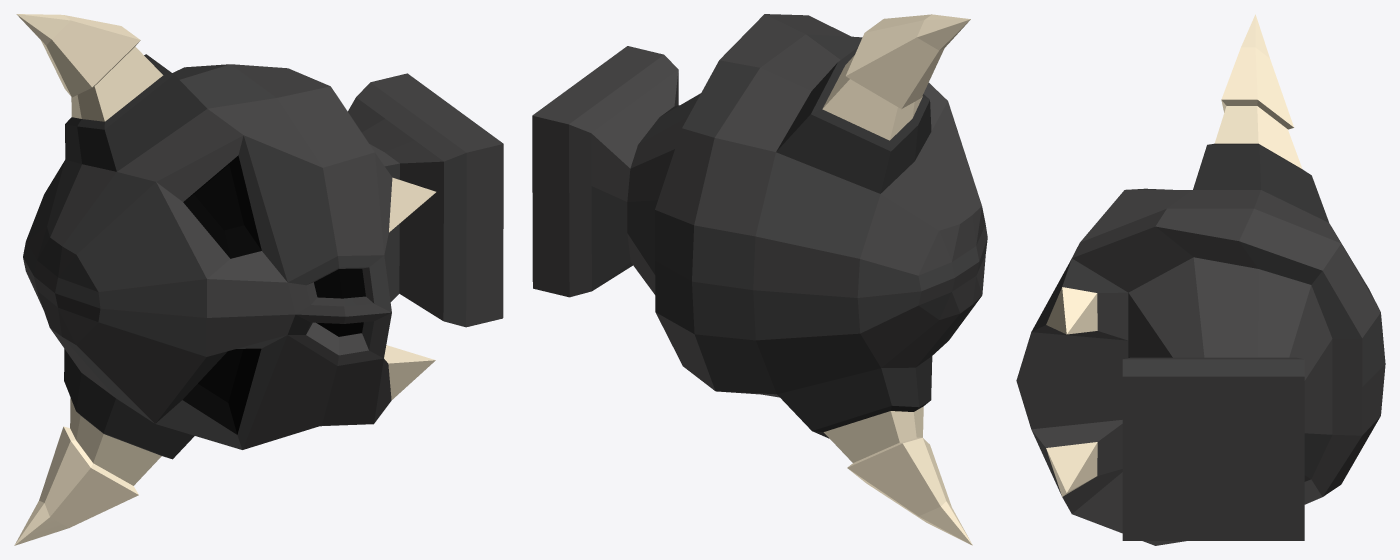
File: LowPoly_Nexus.fbx
3 views of the same model, side by side, from view 1: azimuth 30°, elevation 25°; view 2: azimuth 150°, elevation 25°; view 3: azimuth 270°, elevation 25° (orthographic). The views are drawn at different scales.
Parts seen in each view (by area): view 1: StatueD; view 2: StatueD; view 3: StatueD.
Part boxes in pixels (x1,y1,x2,y2): StatueD: (14,14,503,545); StatueD: (532,14,987,545); StatueD: (1016,14,1385,545).
Size of the model in its own units: 713 by 863 by 575.
